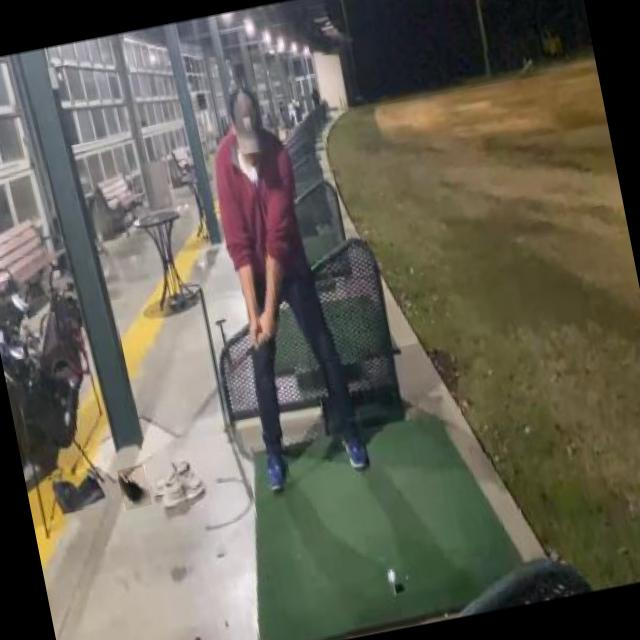club head: (117, 464, 152, 511)
